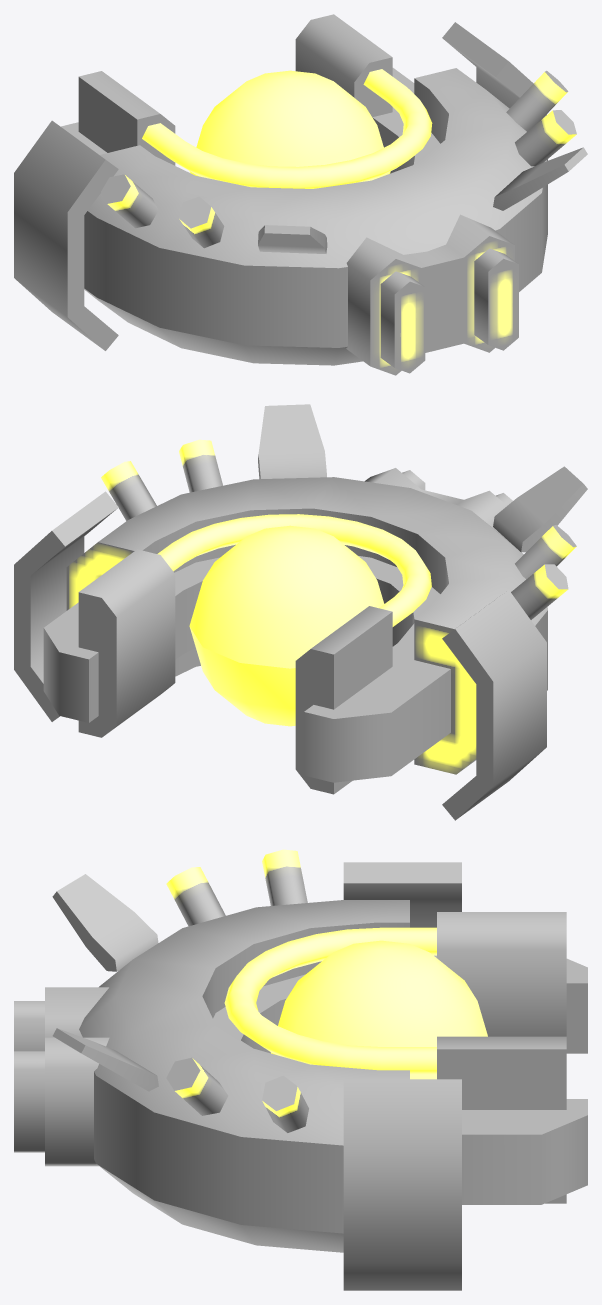
Rendered from Enemy_TeslaGun.gltf.
3 renders of one model, top to bottom at view 1: azimuth 30°, elevation 25°; view 2: azimuth 150°, elevation 25°; view 3: azimuth 270°, elevation 25°, orthographic. The views are drawn at different scales.
Parts seen in each view (by area): view 1: imported_Meshes; view 2: imported_Meshes; view 3: imported_Meshes.
Part boxes in pixels (x1=…): imported_Meshes: x1=14, y1=14, x2=587, y2=375; imported_Meshes: x1=14, y1=404, x2=587, y2=820; imported_Meshes: x1=14, y1=849, x2=587, y2=1290.
Bounding box in the file's own units: 0.1978 × 0.0828 × 0.1861.
